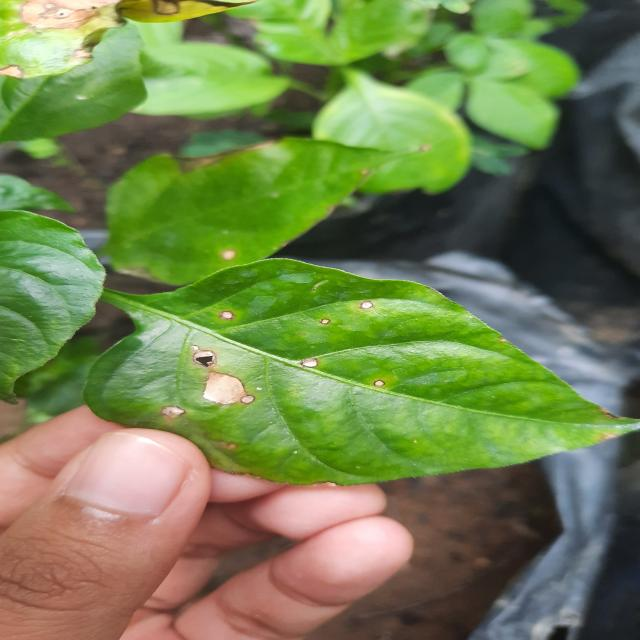bercak_daun: (151, 266, 634, 474)
